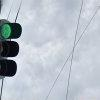traffic lights: (0, 18, 24, 78)
